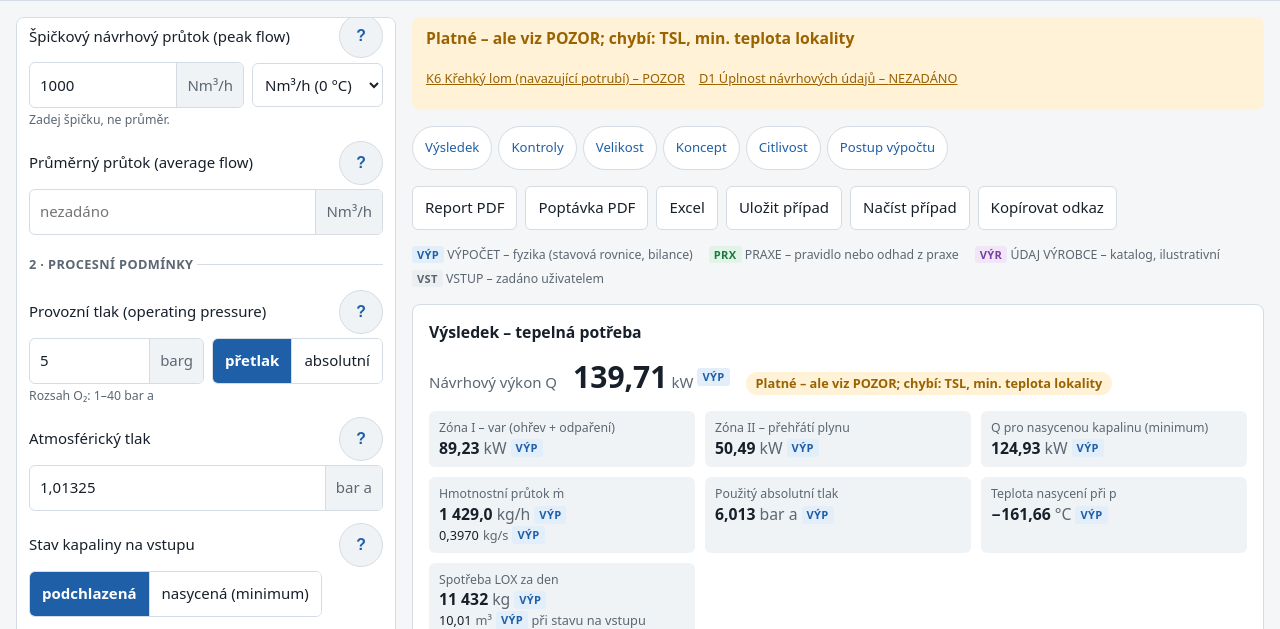
Test case: interakce › přepnutí přetlak → absolutní převede hodnotu, výkon se nezmění
(page scrolled)
Click the radio button labelled "absolutní" at (337, 361), box [292,339,382,383]
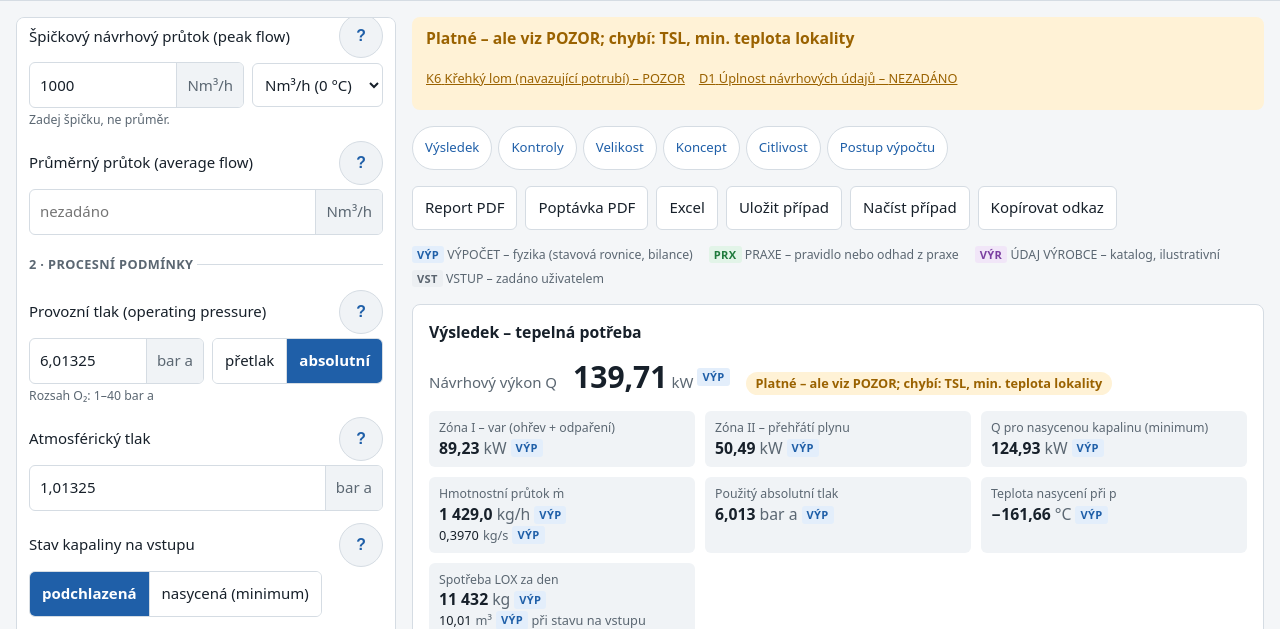
Now the field labelled "Provozní tlak (operating pressure)" holds "6,01325", box [30,339,146,383]
